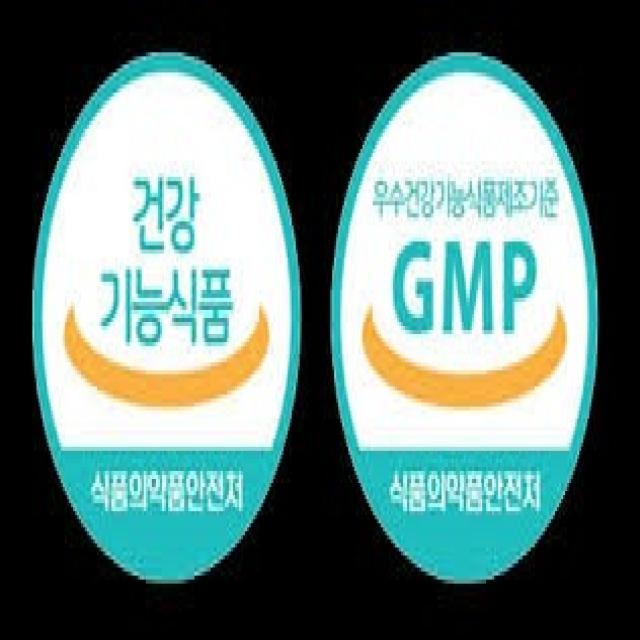GMP: (332, 51, 600, 585)
HEALTHY: (31, 48, 300, 584)
